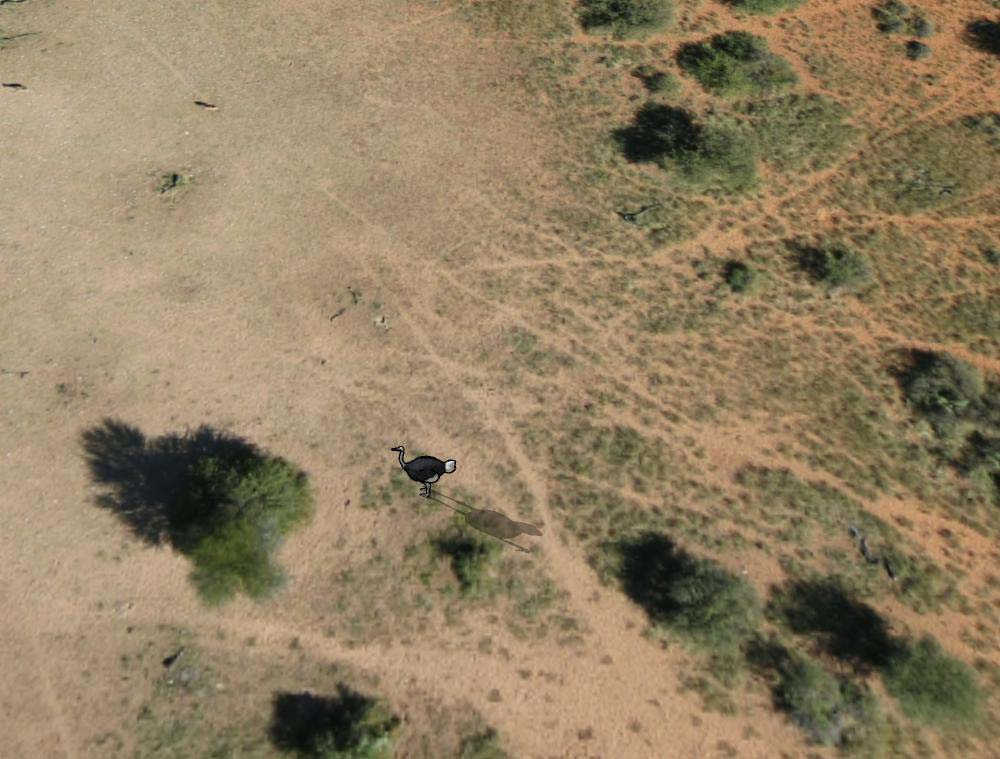springbok: (390, 443, 459, 500)
